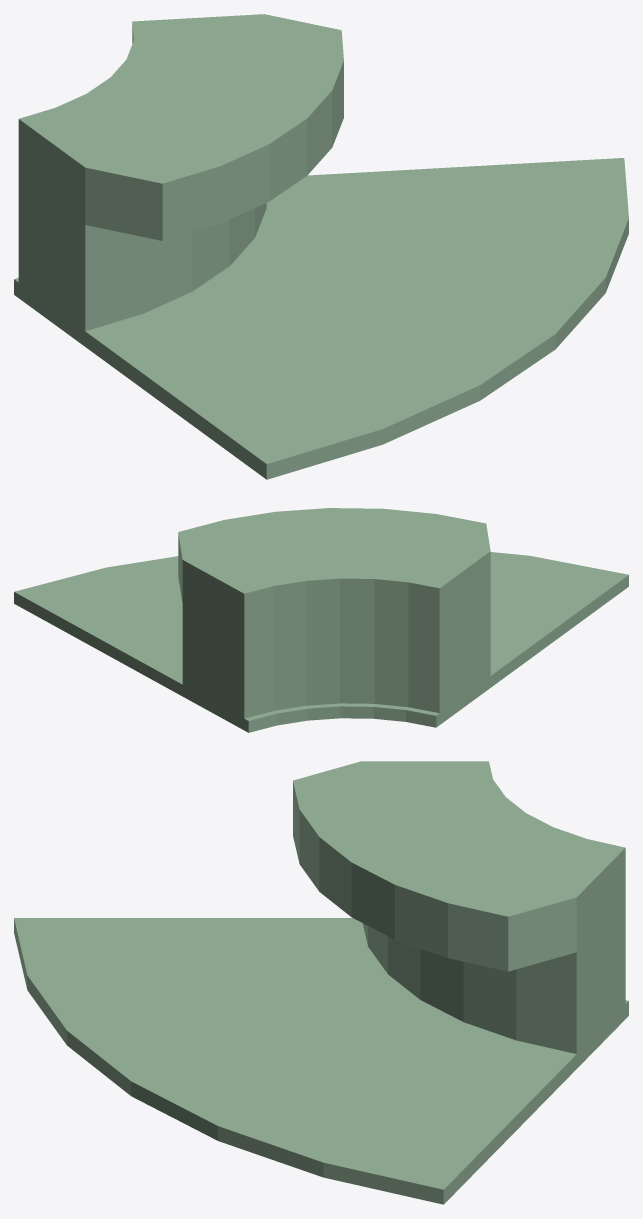
Rendered from ascensor_mesa.fbx.
3 renders of one model, top to bottom at view 1: azimuth 30°, elevation 25°; view 2: azimuth 150°, elevation 25°; view 3: azimuth 270°, elevation 25°, orthographic. The views are drawn at different scales.
Visible parts, largest first — view 1: Ascensor_mesa_suelo, Ascensor_mesa_mesa, Ascensor_mesa_extension; view 2: Ascensor_mesa_mesa, Ascensor_mesa_suelo, Ascensor_mesa_extension; view 3: Ascensor_mesa_suelo, Ascensor_mesa_mesa, Ascensor_mesa_extension.
Boxes of the visible parts, x1,y1,x2,y2 form: Ascensor_mesa_suelo: [14, 158, 628, 479]; Ascensor_mesa_mesa: [18, 14, 266, 331]; Ascensor_mesa_extension: [85, 14, 343, 240]; Ascensor_mesa_mesa: [182, 535, 490, 718]; Ascensor_mesa_suelo: [14, 552, 628, 732]; Ascensor_mesa_extension: [178, 508, 490, 602]; Ascensor_mesa_suelo: [14, 918, 628, 1204]; Ascensor_mesa_mesa: [361, 761, 625, 1053]; Ascensor_mesa_extension: [293, 761, 576, 971].
Size of the model in its own units: 430 by 450 by 133.
